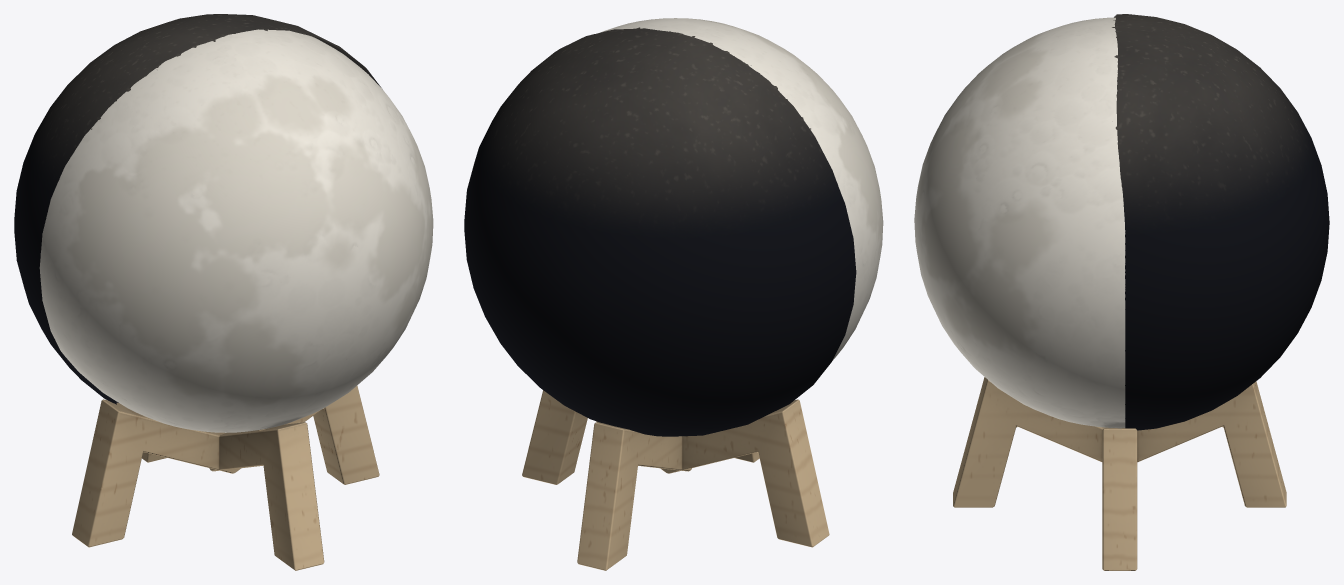
Rendered from MoonLamp.fbx.
The picture shows the model from 3 angles, left to right: view 1: azimuth 30°, elevation 25°; view 2: azimuth 150°, elevation 25°; view 3: azimuth 270°, elevation 25°; orthographic projection.
Parts seen in each view (by area): view 1: MoonLamp_Moon, MoonLamp_Cradle, MoonLamp_Shade; view 2: MoonLamp_Shade, MoonLamp_Cradle, MoonLamp_Moon; view 3: MoonLamp_Shade, MoonLamp_Moon, MoonLamp_Cradle.
Part boxes in pixels (x1=…): MoonLamp_Moon: x1=39, y1=29, x2=433, y2=432; MoonLamp_Cradle: x1=72, y1=386, x2=379, y2=570; MoonLamp_Shade: x1=14, y1=14, x2=381, y2=404; MoonLamp_Shade: x1=464, y1=27, x2=856, y2=436; MoonLamp_Cradle: x1=522, y1=390, x2=829, y2=570; MoonLamp_Moon: x1=599, y1=18, x2=883, y2=360; MoonLamp_Shade: x1=1112, y1=14, x2=1329, y2=430; MoonLamp_Moon: x1=914, y1=17, x2=1125, y2=428; MoonLamp_Cradle: x1=953, y1=377, x2=1286, y2=570.
Size of the model in its own units: 0.6016 by 0.7413 by 0.596.
2 materials, 2 textured.
